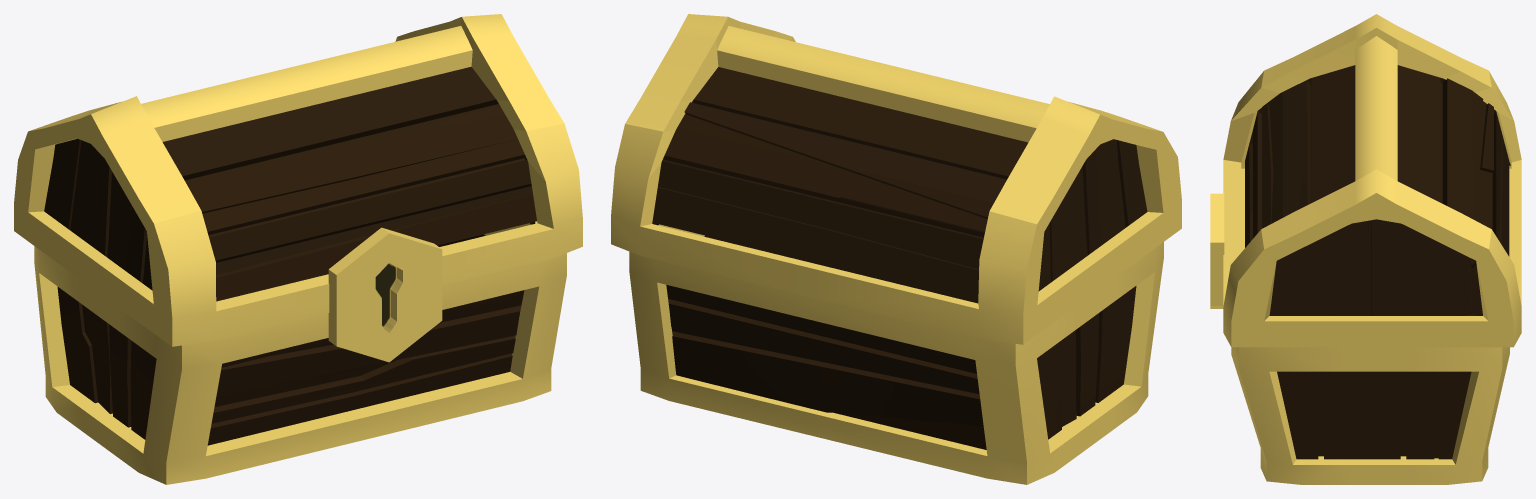
The model's file is treasurboxx.FBX.
3 views of the same model, side by side, from view 1: azimuth 30°, elevation 25°; view 2: azimuth 150°, elevation 25°; view 3: azimuth 270°, elevation 25° (orthographic). The views are drawn at different scales.
Visible parts, largest first — view 1: treasurebox2; view 2: treasurebox2; view 3: treasurebox2.
Part boxes in pixels (<box>): treasurebox2: <box>14,14,582,484</box>; treasurebox2: <box>611,14,1181,484</box>; treasurebox2: <box>1210,14,1521,484</box>.
Size of the model in its own units: 2.5 by 1.95 by 1.84.
